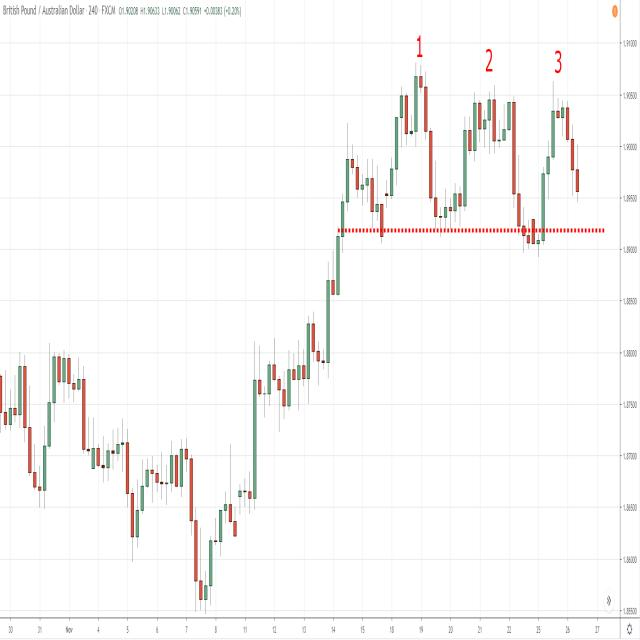Triple-Top: (372, 70, 588, 229)
